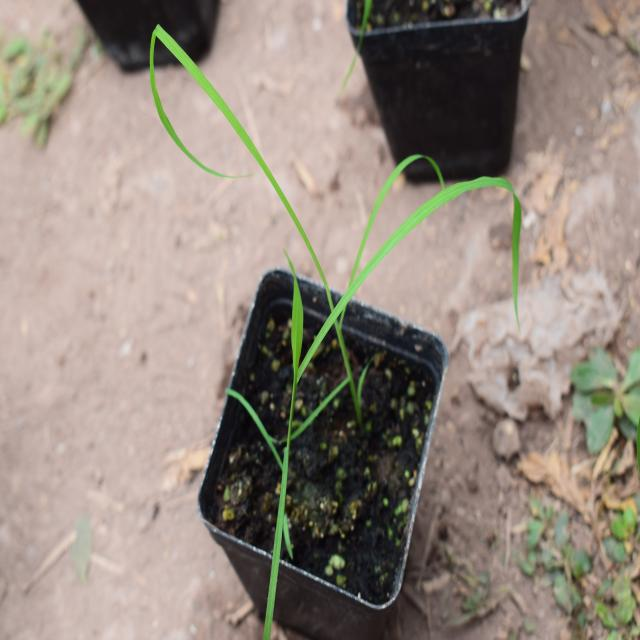barnyard_grass: (80, 39, 462, 427)
